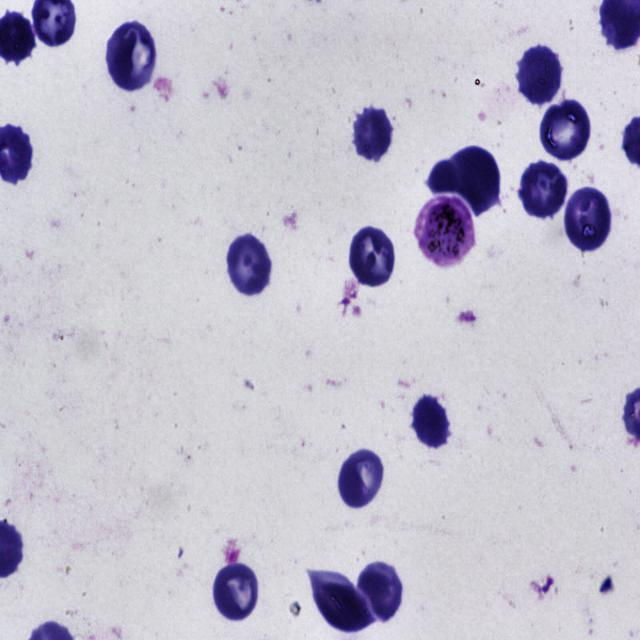gametocyte: (413, 199, 473, 269)
red blood cell: (309, 569, 377, 634), (106, 20, 156, 94), (564, 184, 612, 254), (540, 99, 591, 160), (226, 234, 273, 298), (349, 225, 396, 289), (460, 148, 503, 215), (212, 560, 259, 621), (520, 160, 568, 219), (517, 44, 563, 105), (357, 560, 403, 621), (340, 452, 382, 514), (352, 104, 393, 162), (412, 394, 452, 448), (427, 156, 465, 194)
